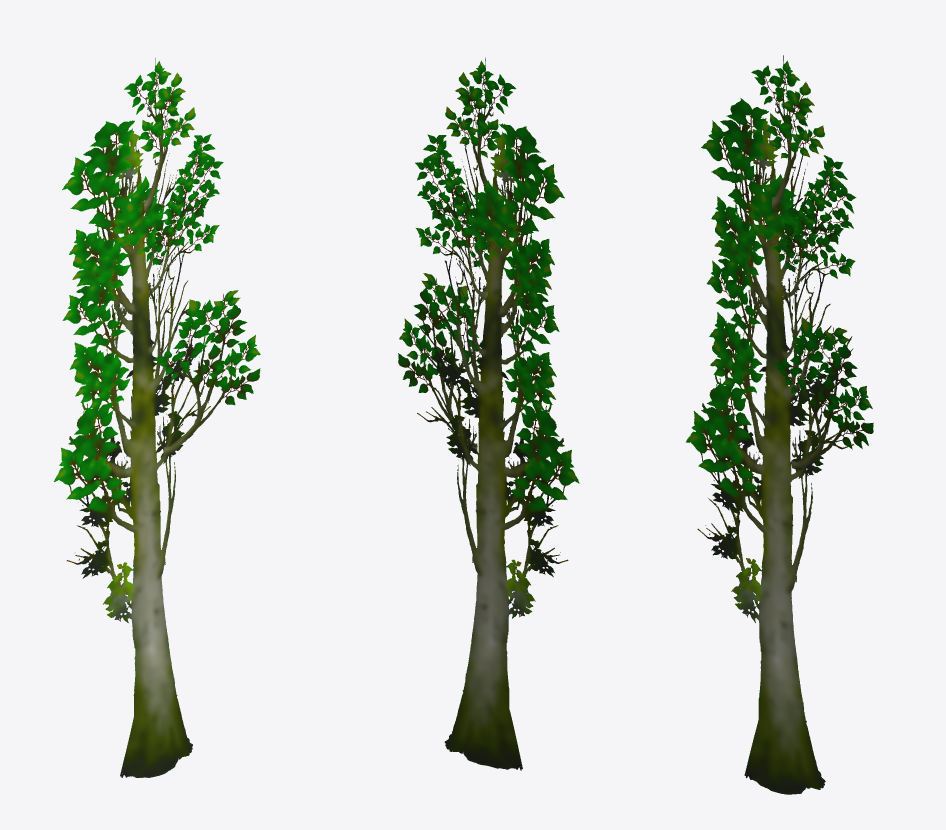
Rendered from street_vegetation_park_tree_topol_1.FBX.
3 renders of one model, left to right at view 1: azimuth 30°, elevation 25°; view 2: azimuth 150°, elevation 25°; view 3: azimuth 330°, elevation 25°, orthographic. The views are drawn at different scales.
Parts seen in each view (by area): view 1: street_vegetation_park_tree_topol_1; view 2: street_vegetation_park_tree_topol_1; view 3: street_vegetation_park_tree_topol_1.
Part boxes in pixels (x1,y1,x2,y2): street_vegetation_park_tree_topol_1: (54,58,260,777); street_vegetation_park_tree_topol_1: (398,57,579,770); street_vegetation_park_tree_topol_1: (686,55,873,794).
Bounding box in the file's own units: 2731 × 6943 × 463.
